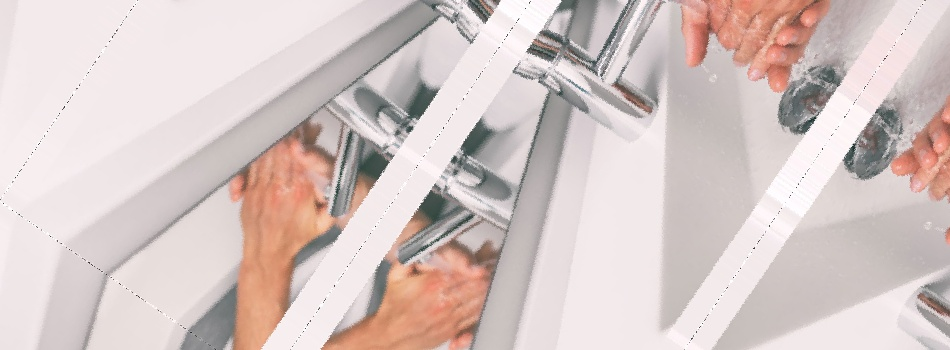washing hand: (577, 0, 890, 159)
